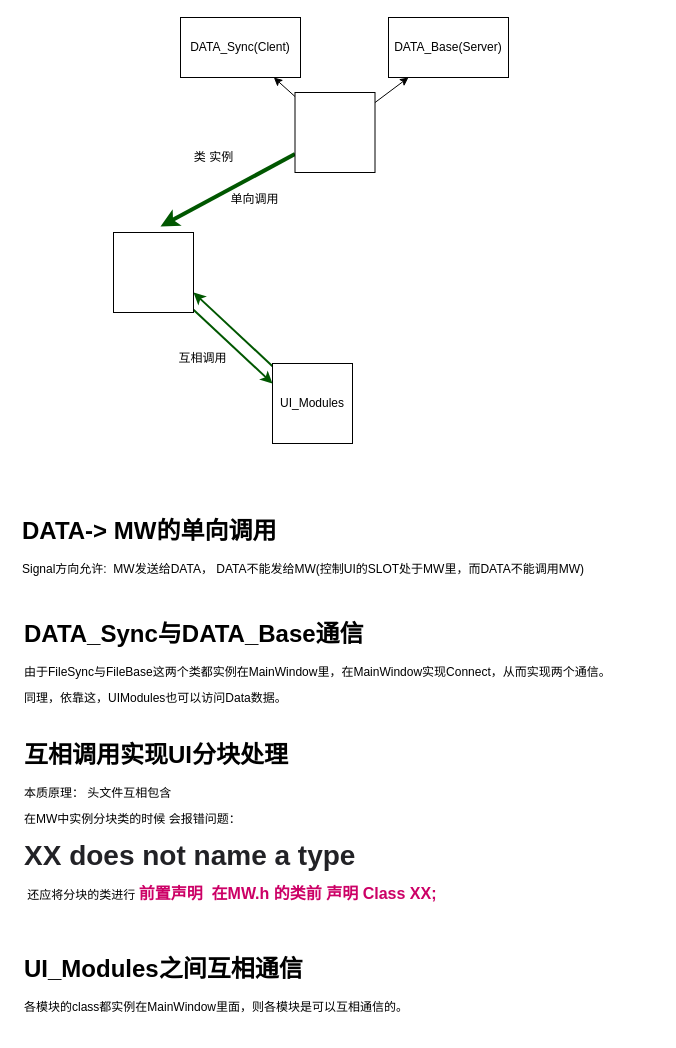
This 676x1048 diagram has some shape labels left out. The box of each missing label's shape, as (x1, y1, x2, y2) in pixels:
DATA: (294, 92, 375, 172)
MainWindow: (112, 232, 194, 312)
